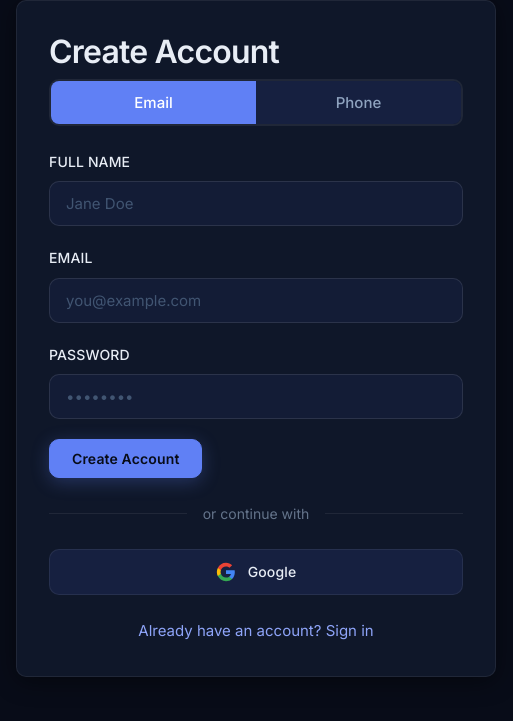
it: Signup Mode › form validation › shows error for short password
Type "user@example.com" into the field labelled "Email" at {"x": 256, "y": 300}, box x1=49 y1=278 x2=463 y2=323
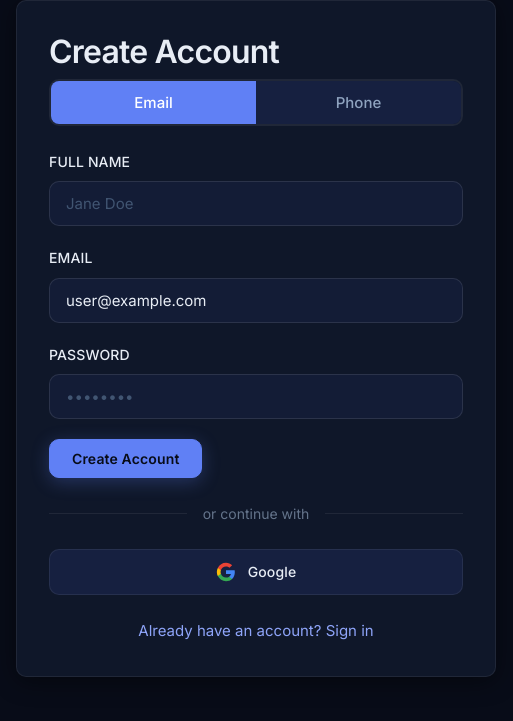
Type "abc" into the password field labelled "Password" at {"x": 256, "y": 396}, box x1=49 y1=374 x2=463 y2=419
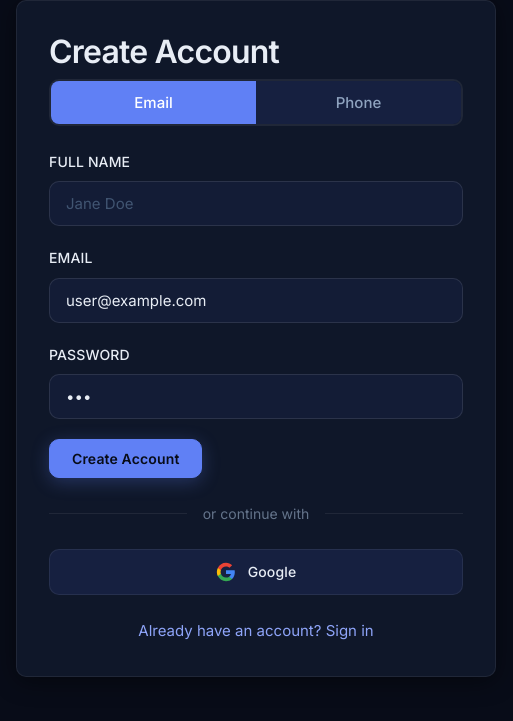
Click the button "Create Account" at {"x": 126, "y": 458}, box x1=49 y1=439 x2=202 y2=478
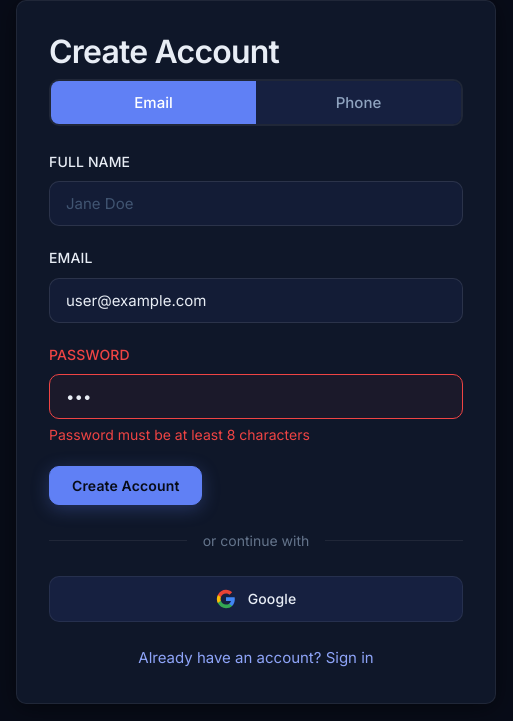
Now the text "Password must be at least 8 characters" is shown, box x1=49 y1=426 x2=310 y2=443
